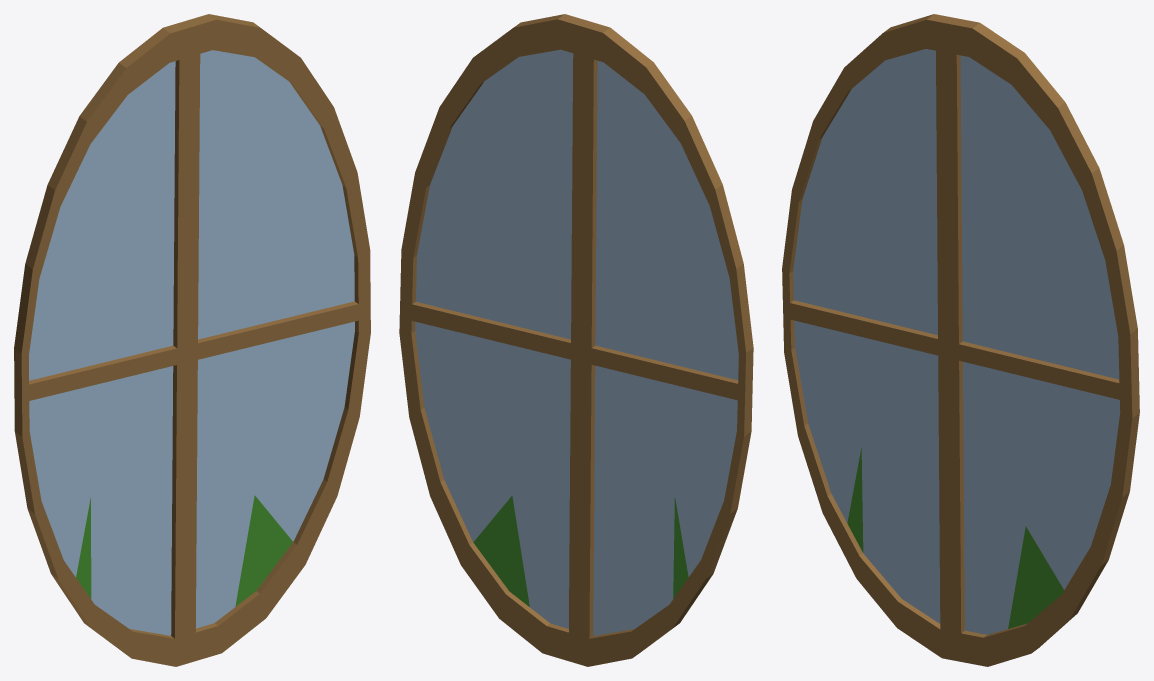
Rendered from VentanaSCo.obj.
3 renders of one model, left to right at view 1: azimuth 30°, elevation 25°; view 2: azimuth 150°, elevation 25°; view 3: azimuth 330°, elevation 25°, orthographic.
Visible parts, largest first — view 1: Mesh16Model; view 2: Mesh16Model; view 3: Mesh16Model.
Part boxes in pixels (left/top/right/bottom): Mesh16Model: left=14, top=14, right=370, bottom=666; Mesh16Model: left=399, top=14, right=753, bottom=666; Mesh16Model: left=782, top=14, right=1139, bottom=666.
Size of the model in its own units: 1.07 by 1.87 by 0.0657.
Materials: 3 (3 with a texture image).
